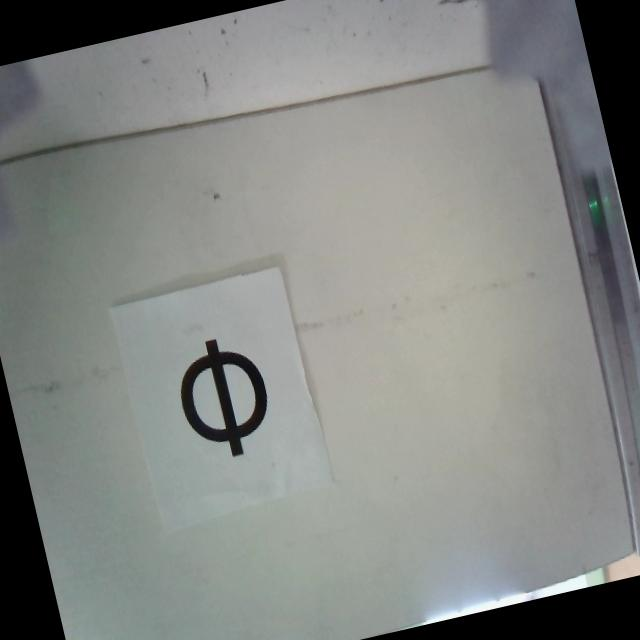F: (167, 328, 280, 462)
